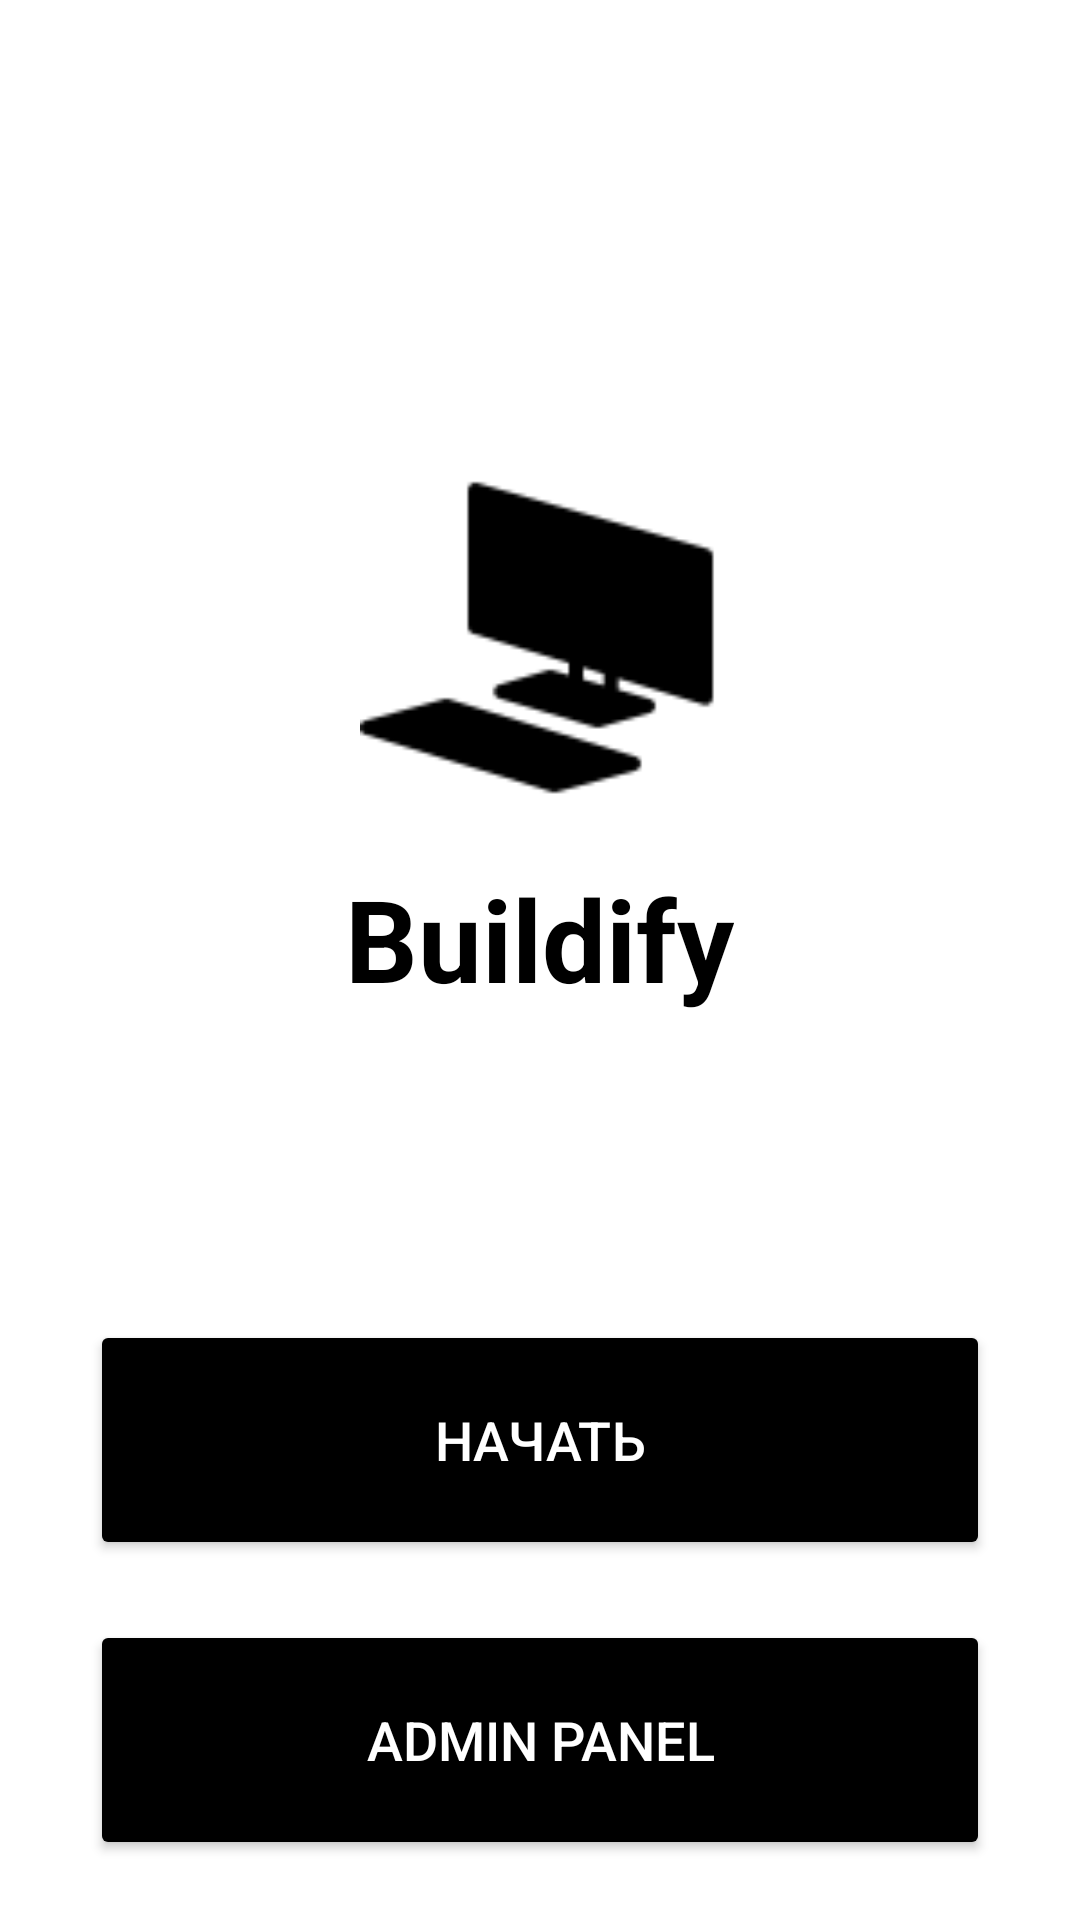

Icons on this 1080px x 1920px Android screen, each with the point to tap as [x,y]:
Центральное изображение: [537,637]
